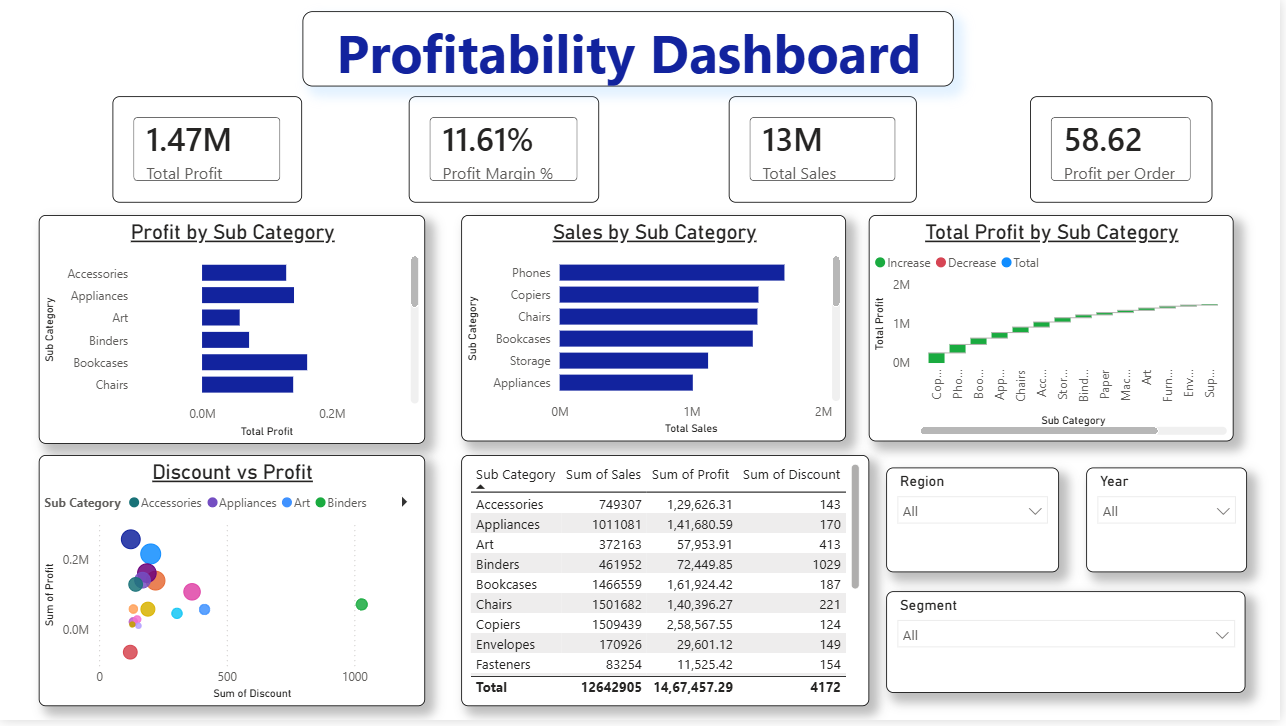

The dashboard page shown, as its layout file describes it:
{"tool":"powerbi","page":{"name":"PROFITABILITY DASHBOARD","canvas":[1280,720],"ordinal":3},"visuals":[{"type":"cardVisual","fields":{"Data":["superstore.Total Profit"]},"box":[112.5,96.6,189.5,106.4],"z":0},{"type":"cardVisual","fields":{"Data":["superstore.Profit per Order"]},"box":[1029.6,96.6,182.2,106.4],"z":1000},{"type":"cardVisual","fields":{"Data":["superstore.Profit Margin %"]},"box":[408.4,96.6,190.8,106.4],"z":2000},{"type":"cardVisual","fields":{"Data":["superstore.Total Sales"]},"box":[728.8,96.6,188.3,106.4],"z":3000},{"type":"clusteredBarChart","title":"Profit by Sub Category","fields":{"Category":["superstore.Sub Category"],"Y":["superstore.Total Profit"]},"box":[39.1,215.2,386.4,228.7],"z":4000},{"type":"clusteredBarChart","title":"Sales by Sub Category","fields":{"Category":["superstore.Sub Category"],"Y":["superstore.Total Sales"]},"box":[461,215.2,385.2,226.2],"z":5000},{"type":"waterfallChart","fields":{"Category":["superstore.Sub Category"],"Y":["superstore.Total Profit"]},"box":[868.2,215.2,364.4,226.2],"z":6000},{"type":"scatterChart","title":"Discount vs Profit","fields":{"X":["Sum(superstore.Discount)"],"Y":["Sum(superstore.Profit)"],"Size":["Sum(superstore.Sales)"],"Series":["superstore.Sub Category"]},"box":[38.6,454.8,386.1,250.9],"z":7000},{"type":"tableEx","fields":{"Values":["superstore.Sub Category","Sum(superstore.Sales)","Sum(superstore.Profit)","Sum(superstore.Discount)"]},"box":[460.9,454.8,407.8,250.9],"z":8000},{"type":"slicer","fields":{"Values":["superstore.Region"]},"box":[886.7,466.9,172.5,105],"z":9000},{"type":"slicer","fields":{"Values":["Calender.Year"]},"box":[1085.8,468.1,160.5,105],"z":10000},{"type":"slicer","fields":{"Values":["Dim Customer.Segment"]},"box":[886.7,591.2,359.5,101.3],"z":11000},{"type":"textbox","title":"Profitability Dashboard","box":[302.5,11.2,651.2,75],"z":12000}]}

Visuals, with their boxes in screenshot pixels (x1, y1, x2, y2), scaled from the page's 1280x720 canvas onto the 1286x726 screenshot:
cardVisual - superstore.Total Profit: region(113, 97, 303, 205)
cardVisual - superstore.Profit per Order: region(1034, 97, 1217, 205)
cardVisual - superstore.Profit Margin %: region(410, 97, 602, 205)
cardVisual - superstore.Total Sales: region(732, 97, 921, 205)
"Profit by Sub Category" clusteredBarChart: region(39, 217, 427, 448)
"Sales by Sub Category" clusteredBarChart: region(463, 217, 850, 445)
waterfallChart - superstore.Sub Category x superstore.Total Profit: region(872, 217, 1238, 445)
"Discount vs Profit" scatterChart: region(39, 459, 427, 712)
tableEx - superstore.Sub Category x Sum(superstore.Sales): region(463, 459, 873, 712)
slicer - superstore.Region: region(891, 471, 1064, 577)
slicer - Calender.Year: region(1091, 472, 1252, 578)
slicer - Dim Customer.Segment: region(891, 596, 1252, 698)
"Profitability Dashboard" textbox: region(304, 11, 958, 87)
